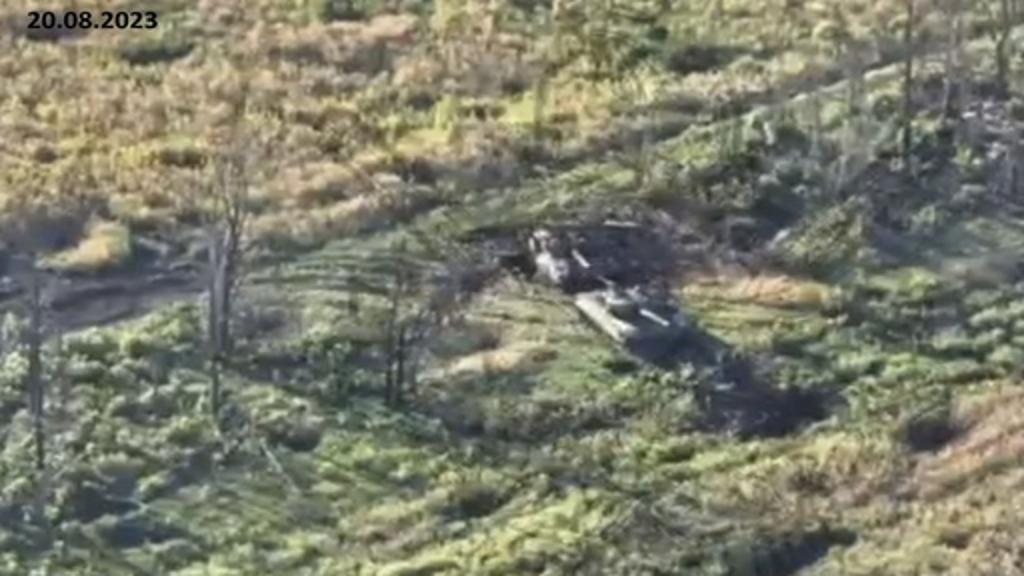TANK: (560, 282, 682, 354), (524, 220, 602, 284)
